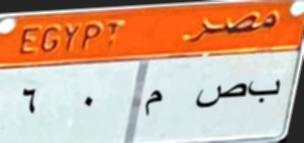0: (76, 91, 99, 112)
6: (18, 87, 42, 117)
baa: (248, 76, 282, 106)
meem: (139, 88, 164, 120)
saad: (193, 79, 247, 112)
